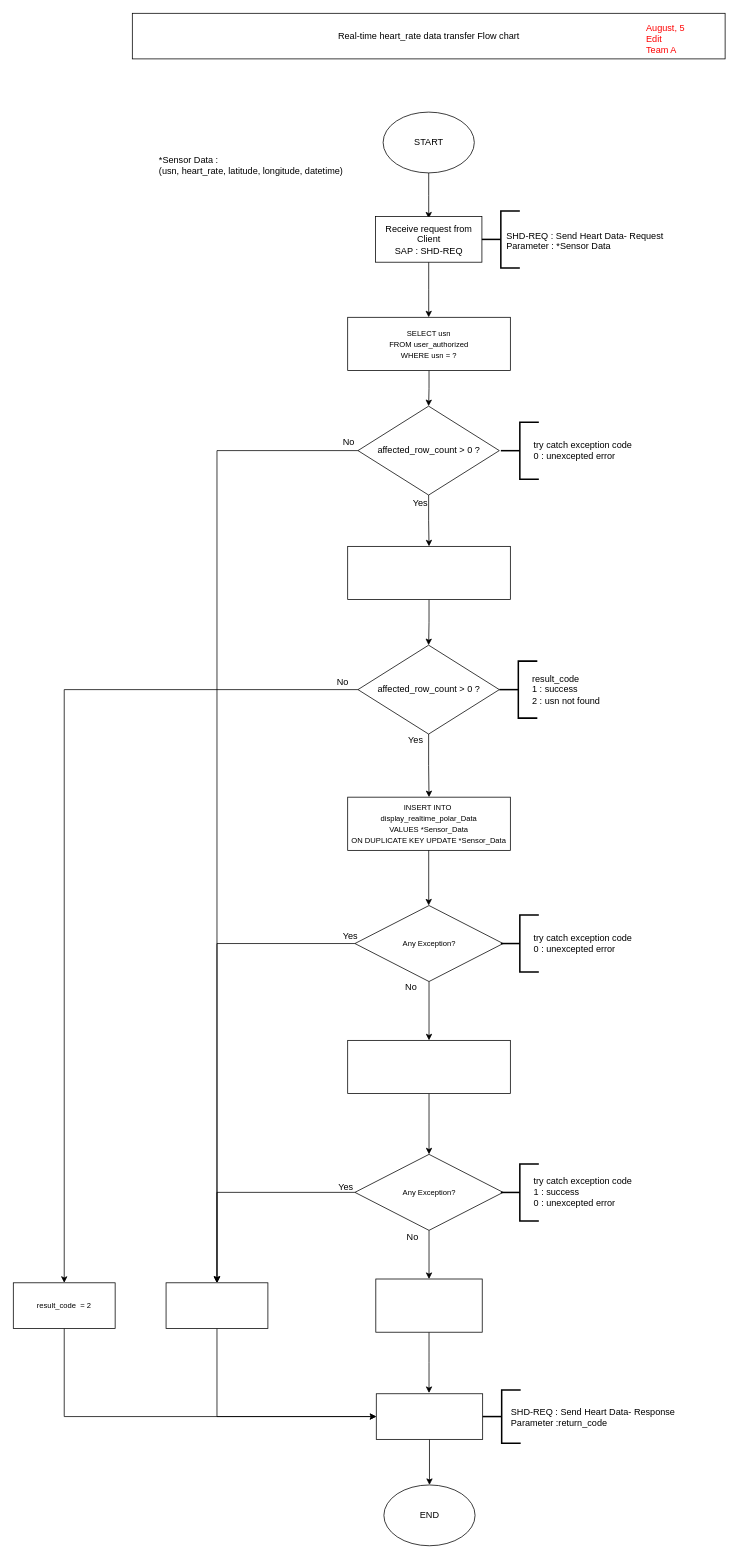
Image size: 739x1560. Some labels were removed from this diagram. Each missing label, with the centre of its shape:
"affected_row_count = $query -> rowCount()" goes at (x=428, y=573).
"INSERT INTO polar_sensor_data VALUES *Sensor_Data" goes at (x=428, y=1067).
"Response to Client *SxP : SHD-RSP" goes at (x=429, y=1416).
"result_code = 0" goes at (x=216, y=1305).
"result_code = 1" goes at (x=428, y=1305).
